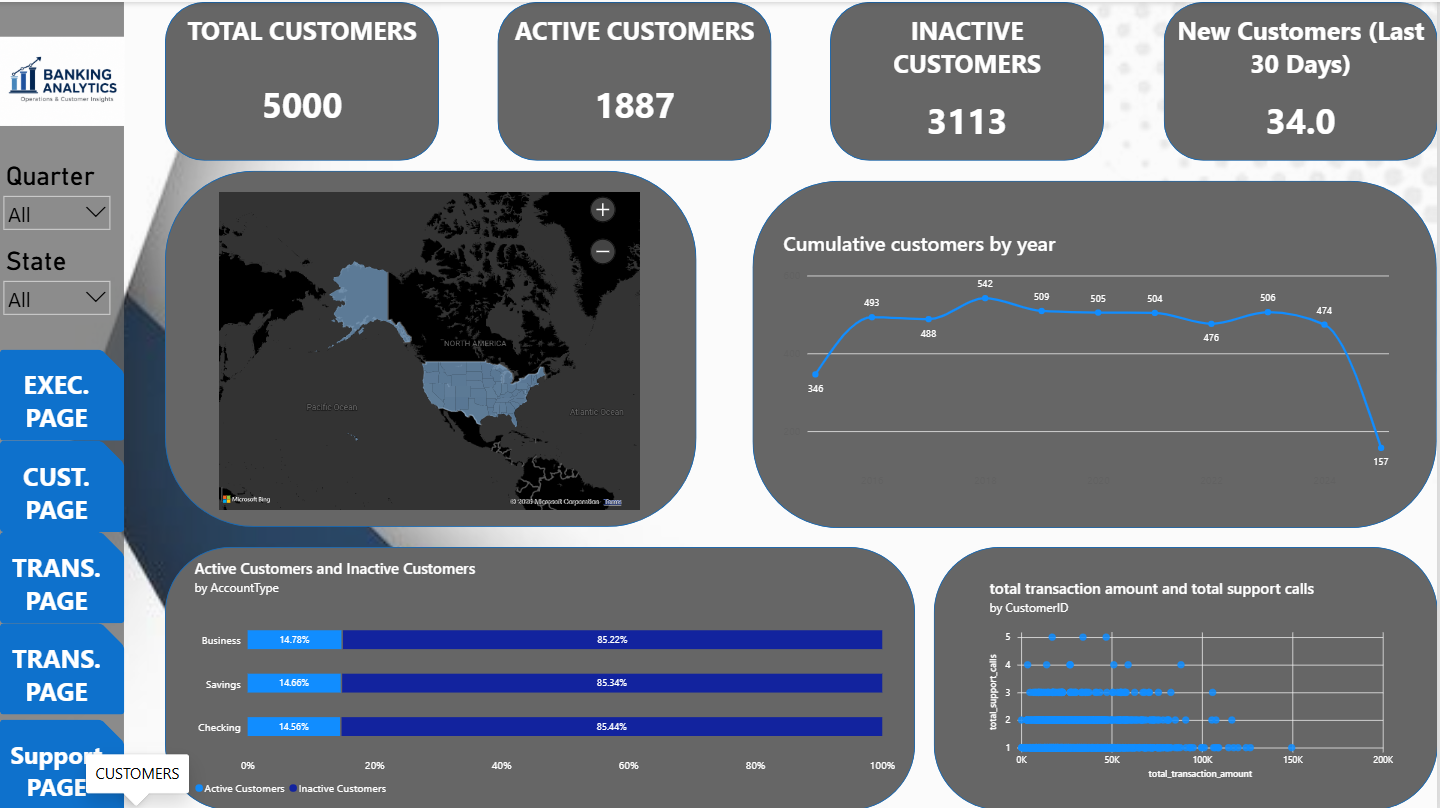

The dashboard page shown, as its layout file describes it:
{"tool":"powerbi","page":{"name":"CUSTOMERS","canvas":[1920,1080],"ordinal":1},"visuals":[{"type":"shape","box":[1006,238,914,464],"z":0},{"type":"shape","box":[220,728,1002,352],"z":1000},{"type":"shape","box":[220,225.7,710,475.7],"z":2000},{"type":"shape","box":[664.7,0,366,212],"z":3000},{"type":"card","title":"ACTIVE CUSTOMERS","fields":{"Values":["Key_Measures.Active Customers"]},"box":[664,0,366.2,212.5],"z":4000},{"type":"shape","box":[1109.3,0,366,212],"z":5000},{"type":"shape","box":[1554,0,366,212],"z":6000},{"type":"shape","box":[0,0,165.7,1080],"z":7000},{"type":"slicer","fields":{"Values":["Accounts_Sheet.CreatedDate.Variation.Date Hierarchy.Quarter"]},"box":[0,212,152,184],"z":8000},{"type":"slicer","fields":{"Values":["customers_cleaned.State"]},"box":[0,326,152,184],"z":9000},{"type":"shape","box":[220,0,366,212],"z":10000},{"type":"card","title":"TOTAL CUSTOMERS","fields":{"Values":["Key_Measures.total_customers"]},"box":[220,0,366.2,212.5],"z":11000},{"type":"card","title":"INACTIVE CUSTOMERS","fields":{"Values":["Key_Measures.Inactive Customers"]},"box":[1108.8,0,366.2,212.5],"z":12000},{"type":"card","title":"New Customers (Last 30 Days)","fields":{"Values":["Key_Measures.New Customers (Last 30 Days)"]},"box":[1553.8,0,366,212],"z":13000},{"type":"lineChart","title":"Cumulative customers by year","fields":{"Category":["customers_cleaned.JoinDate.Variation.Date Hierarchy.Year"],"Y":["Key_Measures.Cumulative Customers"]},"box":[1030,288.3,846.7,380],"z":14000},{"type":"hundredPercentStackedBarChart","fields":{"Category":["Accounts_Sheet.AccountType"],"Y":["Key_Measures.Active Customers","Key_Measures.Inactive Customers"]},"box":[243.8,727.5,968.8,352.5],"z":15000},{"type":"image","box":[0,0,166,212],"z":16000},{"type":"filledMap","fields":{"Category":["customers_cleaned.State"]},"box":[278,238,594,456],"z":17000},{"type":"shape","box":[1246.7,728.3,673.3,351.7],"z":18000},{"type":"scatterChart","title":"total transaction amount and total support calls","fields":{"Category":["customers_cleaned.CustomerID"],"X":["Key_Measures.total_transaction_amount"],"Y":["Key_Measures.total_support_calls"]},"box":[1305.7,754.3,571.4,300],"z":19000},{"type":"actionButton","box":[0,464,166,122],"z":20000},{"type":"actionButton","box":[0,586,166,122],"z":21000},{"type":"actionButton","box":[0,708,166,122],"z":22000},{"type":"actionButton","box":[0,830,166,122],"z":23000},{"type":"actionButton","box":[0,951.7,166.7,128.3],"z":24000}]}

Visuals, with their boxes on the page's 1920x1080 design canvas (x1, y1, x2, y2). These are canvas units, not pixel positions in the 1440x808 screenshot, which may show the page scaled, cropped or inside an application window:
shape: {"left": 1006, "top": 238, "right": 1920, "bottom": 702}
shape: {"left": 220, "top": 728, "right": 1222, "bottom": 1080}
shape: {"left": 220, "top": 226, "right": 930, "bottom": 701}
shape: {"left": 665, "top": 0, "right": 1031, "bottom": 212}
"ACTIVE CUSTOMERS" card: {"left": 664, "top": 0, "right": 1030, "bottom": 212}
shape: {"left": 1109, "top": 0, "right": 1475, "bottom": 212}
shape: {"left": 1554, "top": 0, "right": 1920, "bottom": 212}
shape: {"left": 0, "top": 0, "right": 166, "bottom": 1080}
slicer - Accounts_Sheet.CreatedDate.Variation.Date Hierarchy.Quarter: {"left": 0, "top": 212, "right": 152, "bottom": 396}
slicer - customers_cleaned.State: {"left": 0, "top": 326, "right": 152, "bottom": 510}
shape: {"left": 220, "top": 0, "right": 586, "bottom": 212}
"TOTAL CUSTOMERS" card: {"left": 220, "top": 0, "right": 586, "bottom": 212}
"INACTIVE CUSTOMERS" card: {"left": 1109, "top": 0, "right": 1475, "bottom": 212}
"New Customers (Last 30 Days)" card: {"left": 1554, "top": 0, "right": 1920, "bottom": 212}
"Cumulative customers by year" lineChart: {"left": 1030, "top": 288, "right": 1877, "bottom": 668}
hundredPercentStackedBarChart - Accounts_Sheet.AccountType x Key_Measures.Active Customers: {"left": 244, "top": 728, "right": 1213, "bottom": 1080}
image: {"left": 0, "top": 0, "right": 166, "bottom": 212}
filledMap - customers_cleaned.State: {"left": 278, "top": 238, "right": 872, "bottom": 694}
shape: {"left": 1247, "top": 728, "right": 1920, "bottom": 1080}
"total transaction amount and total support calls" scatterChart: {"left": 1306, "top": 754, "right": 1877, "bottom": 1054}
actionButton: {"left": 0, "top": 464, "right": 166, "bottom": 586}
actionButton: {"left": 0, "top": 586, "right": 166, "bottom": 708}
actionButton: {"left": 0, "top": 708, "right": 166, "bottom": 830}
actionButton: {"left": 0, "top": 830, "right": 166, "bottom": 952}
actionButton: {"left": 0, "top": 952, "right": 167, "bottom": 1080}
